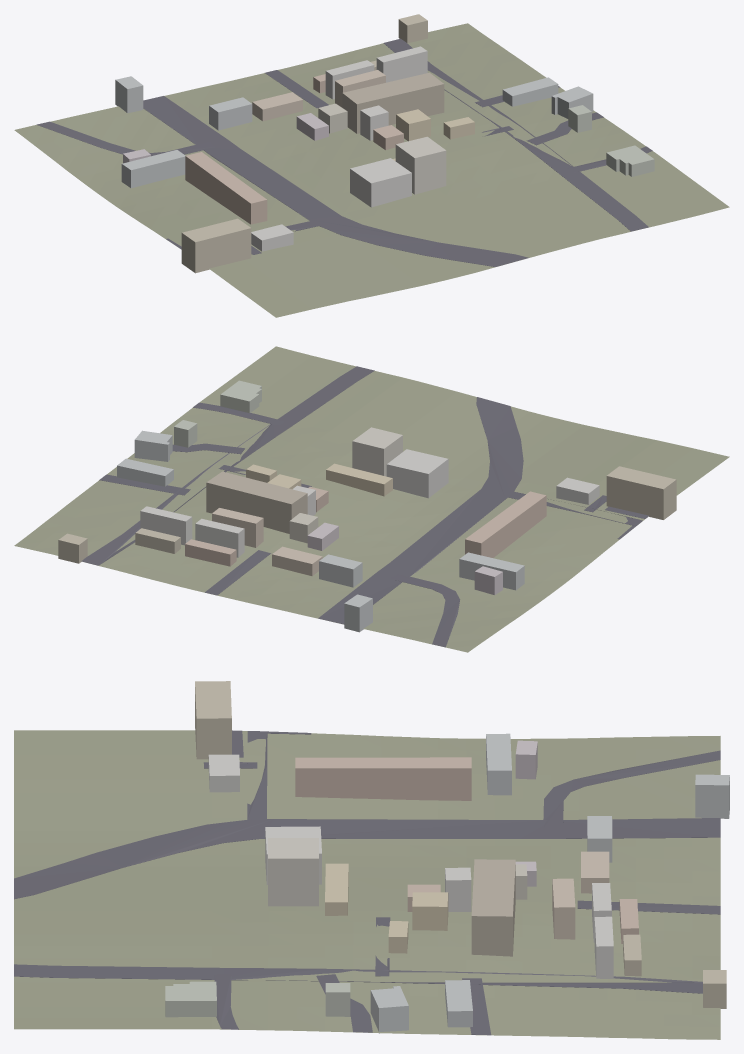
The model's file is chunk_9_9.glb.
3 views of the same model, one above another, from view 1: azimuth 30°, elevation 25°; view 2: azimuth 150°, elevation 25°; view 3: azimuth 270°, elevation 25° (orthographic). The views are drawn at different scales.
Visible parts, largest first — view 1: geometry_28, geometry_32, geometry_25, geometry_19, geometry_11, geometry_40, geometry_3, geometry_9, geometry_7, geometry_21, geometry_12, geometry_17 (+17 smaller); view 2: geometry_28, geometry_32, geometry_25, geometry_40, geometry_11, geometry_19, geometry_3, geometry_9, geometry_7, geometry_31, geometry_21, geometry_10 (+20 smaller); view 3: geometry_28, geometry_32, geometry_19, geometry_40, geometry_25, geometry_9, geometry_11, geometry_31, geometry_17, geometry_7, geometry_16, geometry_26 (+22 smaller).
Boxes of the visible parts, x1,y1,x2,y2 form: geometry_28: (14,23,729,317); geometry_32: (143,96,528,266); geometry_25: (342,72,444,133); geometry_19: (185,152,267,224); geometry_11: (181,218,251,273); geometry_40: (383,38,648,231); geometry_3: (350,158,411,207); geometry_9: (395,136,446,194); geometry_7: (121,150,185,188); geometry_21: (376,46,427,82); geometry_12: (209,97,252,130); geometry_17: (606,145,654,176); geometry_28: (14,346,729,652); geometry_32: (318,397,523,624); geometry_25: (206,471,307,533); geometry_40: (81,366,374,565); geometry_11: (606,466,676,519); geometry_19: (465,491,546,557); geometry_3: (386,449,448,498); geometry_9: (352,427,402,476); geometry_7: (459,552,524,590); geometry_31: (388,573,459,647); geometry_21: (140,506,192,545); geometry_10: (326,463,392,496); geometry_28: (14,730,720,1039); geometry_32: (14,818,720,899); geometry_19: (295,757,471,800); geometry_40: (14,964,702,993); geometry_25: (471,859,515,956); geometry_9: (268,838,318,906); geometry_11: (195,681,231,759); geometry_31: (543,750,720,829); geometry_17: (165,981,216,1017); geometry_7: (486,733,511,795); geometry_16: (370,986,408,1033); geometry_26: (695,774,729,818).
Bounding box in the file's own units: 258 × 22.25 × 253.
